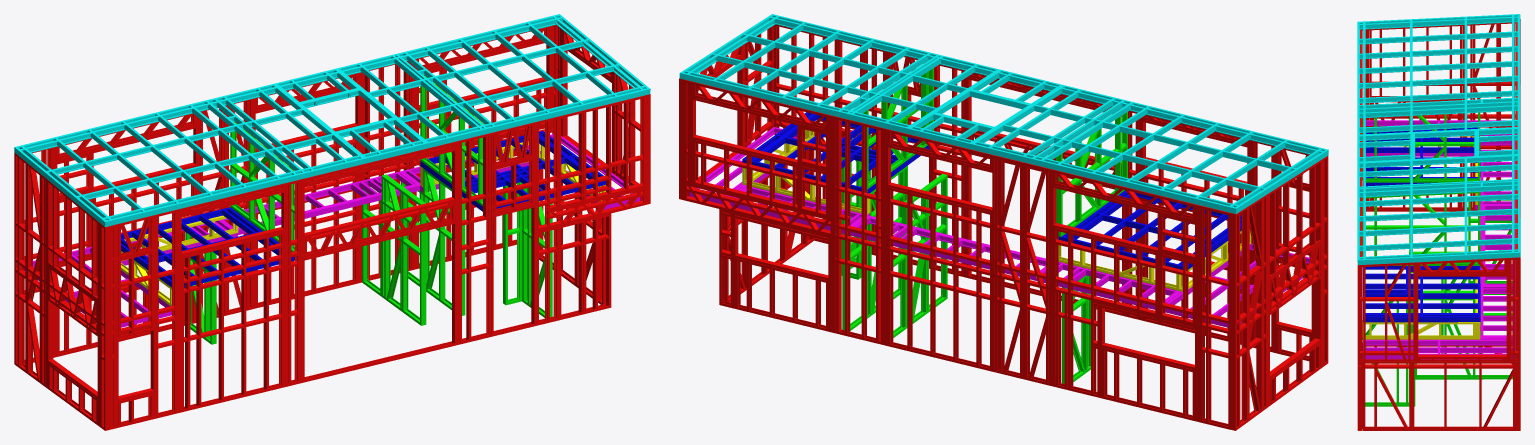
File: sophie-adjusted.glb
The picture shows the model from 3 angles, left to right: view 1: azimuth 30°, elevation 25°; view 2: azimuth 150°, elevation 25°; view 3: azimuth 270°, elevation 25°; orthographic projection. The views are drawn at different scales.
Visible parts, largest first — view 1: B2.005, T2.005, N2.015, B1.003, N1.003, B1.047, T1.047, N1.001, N1.035, T1.003, S18.007, S2.007 (+64 smaller); view 2: T1.047, B1.047, N2.015, N1.001, N4.001, B1.001, N9.001, T2.005, B2.005, T1.001, N1.035, S3.007 (+70 smaller); view 3: S29.005, S10.013, S17.009, S11.013, S24.007, S7.023, S27.005, S22.007, S4.043, S25.007, S18.009, S2.047 (+104 smaller).
Part boxes in pixels (x1,y1,x2,y2): B2.005: [104, 88, 650, 226]; T2.005: [18, 17, 563, 152]; N2.015: [77, 64, 620, 199]; B1.003: [110, 304, 611, 429]; N1.003: [111, 155, 643, 288]; B1.047: [101, 85, 646, 223]; T1.047: [15, 14, 559, 148]; N1.001: [24, 90, 557, 224]; N1.035: [44, 108, 306, 174]; T1.003: [110, 95, 644, 227]; S18.007: [104, 226, 110, 430]; S2.007: [17, 157, 23, 366]; T1.047: [679, 72, 1236, 213]; B1.047: [768, 16, 1324, 154]; N2.015: [741, 33, 1297, 171]; N1.001: [684, 149, 1228, 286]; N4.001: [685, 186, 1228, 323]; B1.001: [719, 300, 1230, 429]; N9.001: [833, 233, 1228, 333]; T2.005: [684, 70, 1240, 207]; B2.005: [771, 14, 1328, 150]; T1.001: [684, 80, 1230, 214]; N1.035: [1001, 124, 1265, 191]; S3.007: [1241, 207, 1248, 422]; S29.005: [1357, 251, 1520, 265]; S10.013: [1359, 105, 1519, 118]; S17.009: [1359, 155, 1519, 168]; S11.013: [1359, 120, 1518, 132]; S24.007: [1359, 193, 1519, 206]; S7.023: [1359, 90, 1519, 103]; S27.005: [1359, 238, 1519, 251]; S22.007: [1359, 184, 1518, 197]; S4.043: [1359, 46, 1519, 59]; S25.007: [1359, 208, 1519, 221]; S18.009: [1359, 164, 1517, 177]; S2.047: [1359, 16, 1519, 29].
Bounding box in the file's own units: 97.05 × 37.01 × 28.05.
